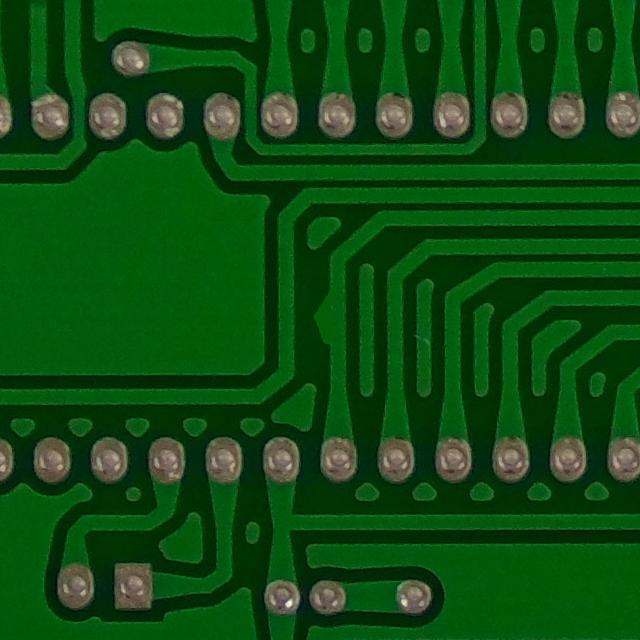spur: (295, 285, 346, 356)
